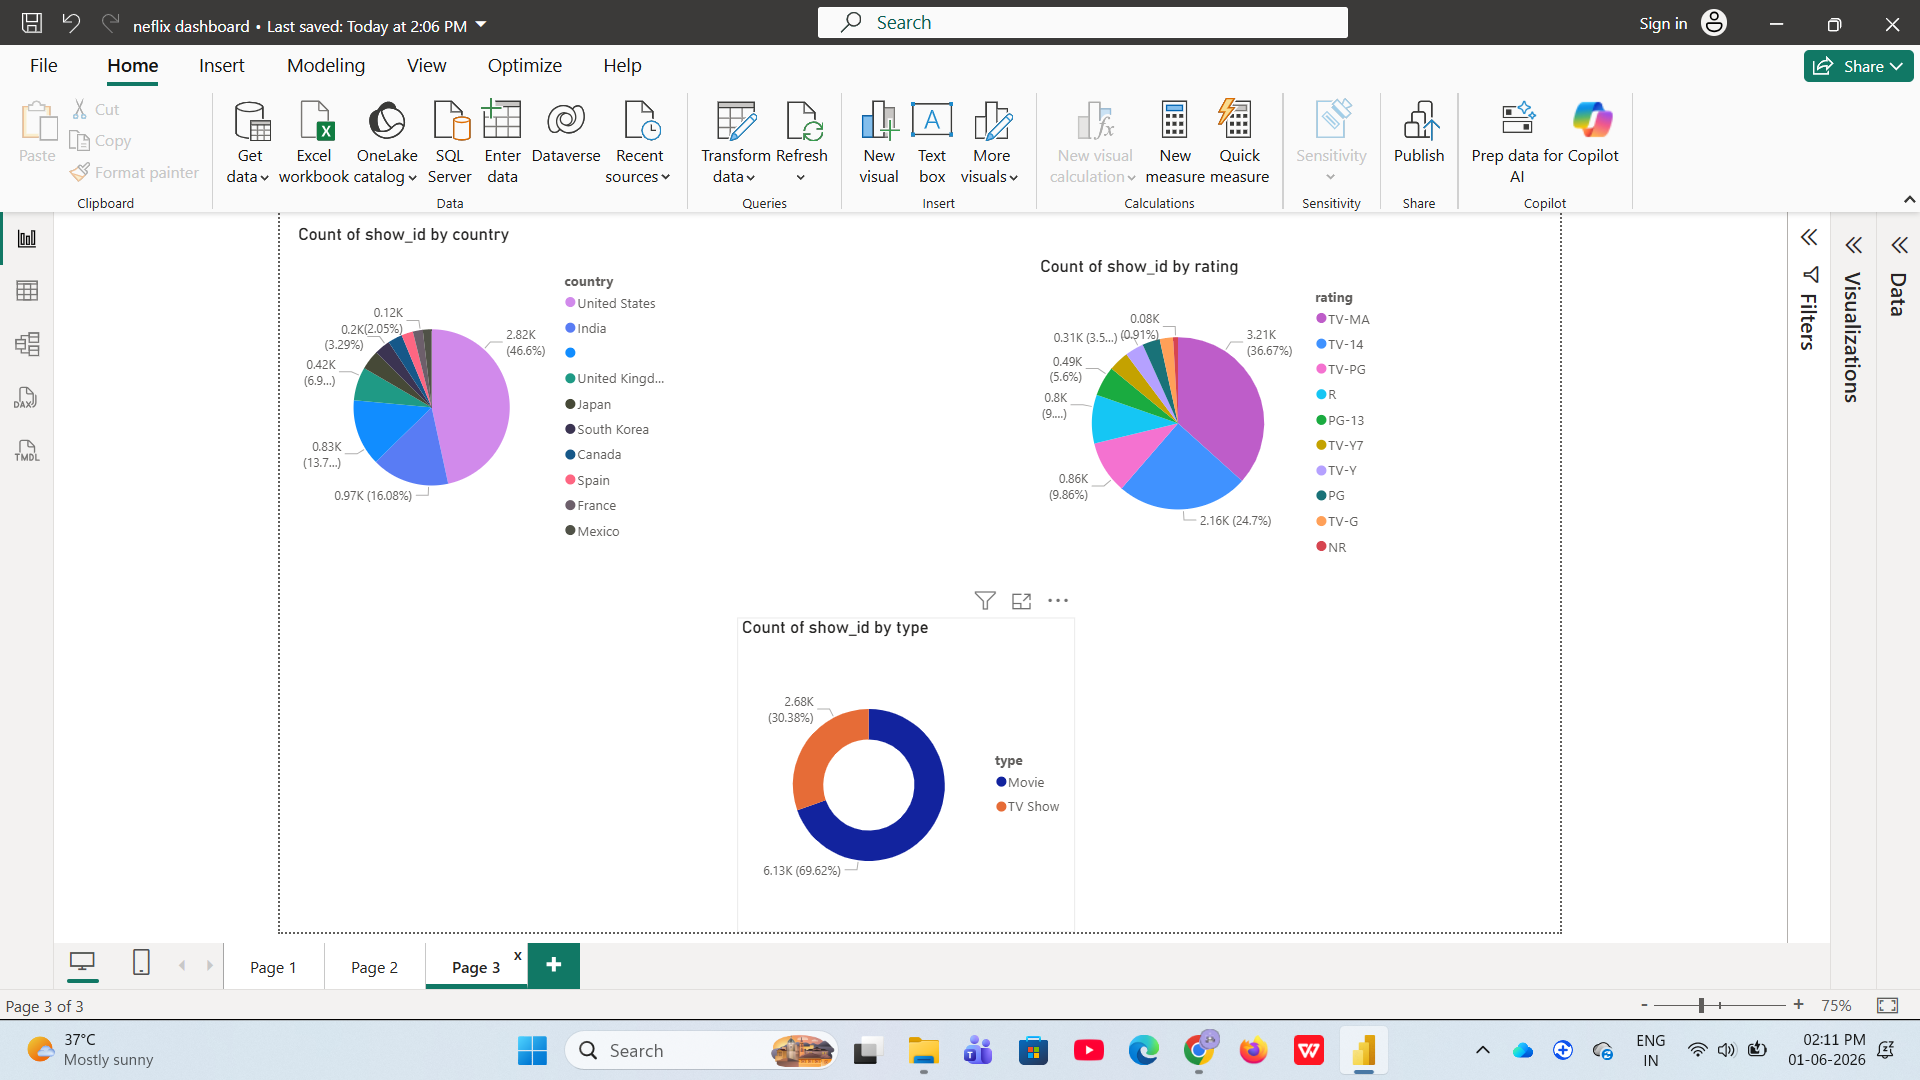

The page's visual inventory and layout, read from the dashboard file:
{"tool":"powerbi","page":{"name":"Page 3","canvas":[1280,720],"ordinal":2},"visuals":[{"type":"pieChart","fields":{"Category":["netflix_titles.country"],"Y":["CountNonNull(netflix_titles.show_id)"]},"box":[13.6,12.1,391.1,347.3],"z":0},{"type":"pieChart","fields":{"Category":["netflix_titles.rating"],"Y":["CountNonNull(netflix_titles.show_id)"]},"box":[755.1,43.8,348.9,315.6],"z":1000},{"type":"donutChart","fields":{"Category":["netflix_titles.type"],"Y":["CountNonNull(netflix_titles.show_id)"]},"box":[457.6,404.7,336.8,315.6],"z":1001}]}

Visuals, with their boxes on the page's 1280x720 design canvas (x1, y1, x2, y2). These are canvas units, not pixel positions in the 1920x1080 screenshot, which may show the page scaled, cropped or inside an application window:
pieChart - netflix_titles.country x CountNonNull(netflix_titles.show_id): <bbox>14, 12, 405, 359</bbox>
pieChart - netflix_titles.rating x CountNonNull(netflix_titles.show_id): <bbox>755, 44, 1104, 359</bbox>
donutChart - netflix_titles.type x CountNonNull(netflix_titles.show_id): <bbox>458, 405, 794, 720</bbox>
